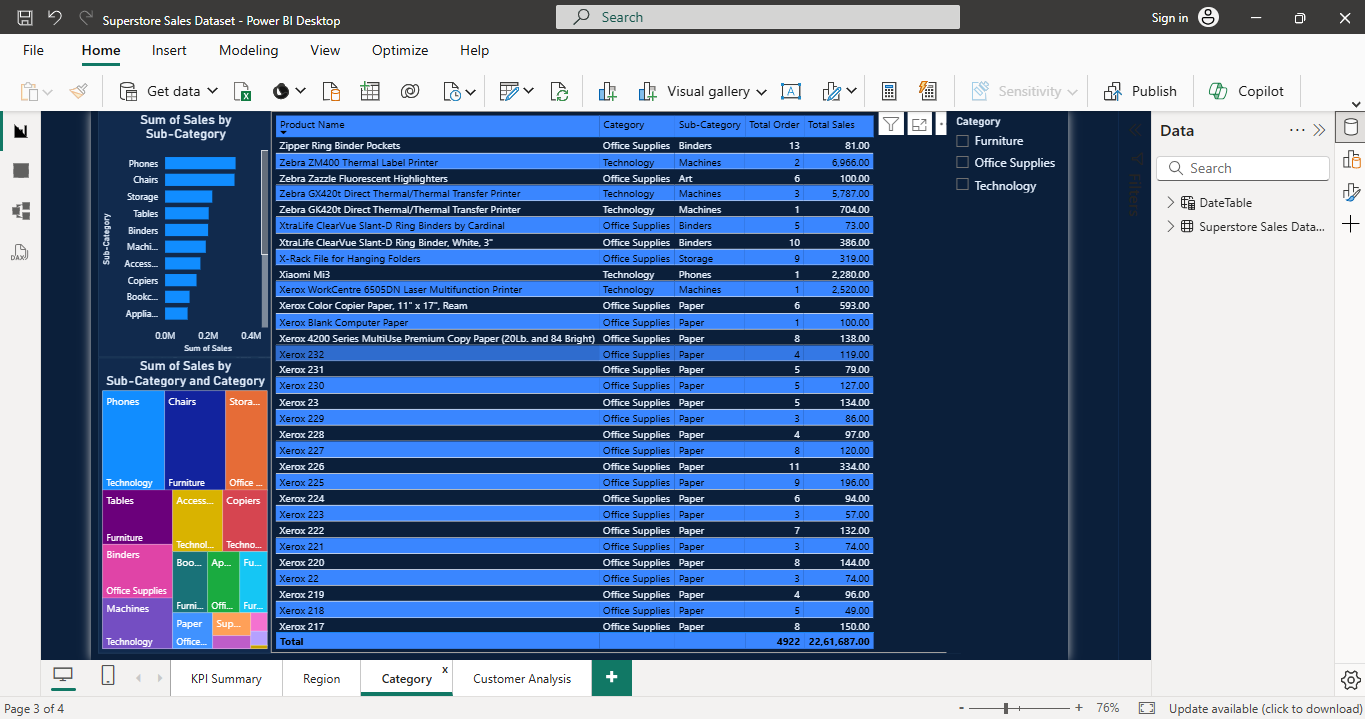

Layout of this report page (visuals, bound fields, positions):
{"tool":"powerbi","page":{"name":"Category","canvas":[1280,720],"ordinal":2},"visuals":[{"type":"clusteredBarChart","fields":{"Category":["Superstore Sales Dataset.Sub-Category"],"Y":["Sum(Superstore Sales Dataset.Sales)"]},"box":[8.7,0,228.6,322.7],"z":0},{"type":"treemap","fields":{"Group":["Superstore Sales Dataset.Sub-Category"],"Details":["Superstore Sales Dataset.Category"],"Values":["Sum(Superstore Sales Dataset.Sales)"]},"box":[9.3,323,227.7,387.9],"z":1000},{"type":"tableEx","fields":{"Values":["Superstore Sales Dataset.Product Name","Superstore Sales Dataset.Category","Superstore Sales Dataset.Sub-Category","DateTable.Total Order","DateTable.Total Sales"]},"box":[235.9,0,904.4,710.5],"z":2000},{"type":"slicer","fields":{"Values":["Superstore Sales Dataset.Category"]},"box":[1121.5,0,159.2,710.5],"z":3000}]}

Visuals, with their boxes on the page's 1280x720 design canvas (x1, y1, x2, y2). These are canvas units, not pixel positions in the 1365x719 screenshot, which may show the page scaled, cropped or inside an application window:
clusteredBarChart - Superstore Sales Dataset.Sub-Category x Sum(Superstore Sales Dataset.Sales): left=9, top=0, right=237, bottom=323
treemap - Superstore Sales Dataset.Sub-Category x Superstore Sales Dataset.Category: left=9, top=323, right=237, bottom=711
tableEx - Superstore Sales Dataset.Product Name x Superstore Sales Dataset.Category: left=236, top=0, right=1140, bottom=710
slicer - Superstore Sales Dataset.Category: left=1122, top=0, right=1281, bottom=710
